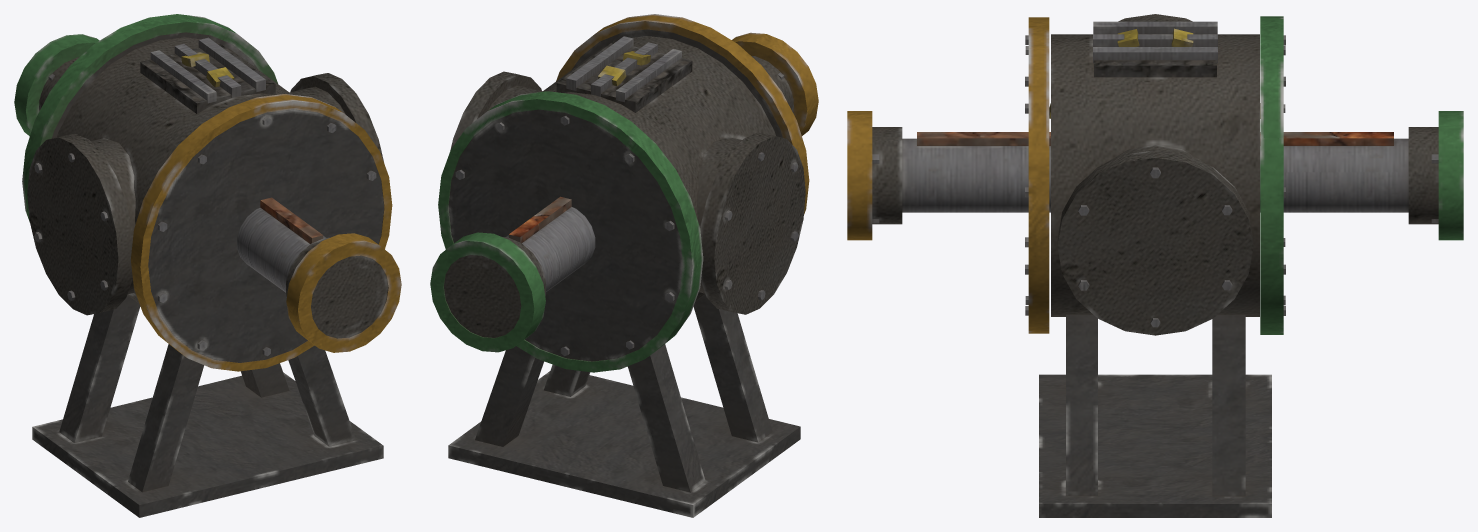
File: feSpinInverter_HD.fbx
3 views of the same model, side by side, from view 1: azimuth 30°, elevation 25°; view 2: azimuth 150°, elevation 25°; view 3: azimuth 270°, elevation 25° (orthographic). The views are drawn at different scales.
Visible parts, largest first — view 1: feSpinInverter_Base, FeSpinOut_Inverter, FeSpinIn_Inverter; view 2: feSpinInverter_Base, FeSpinIn_Inverter, FeSpinOut_Inverter; view 3: feSpinInverter_Base, FeSpinOut_Inverter, FeSpinIn_Inverter.
Boxes of the visible parts, x1,y1,x2,y2 form: feSpinInverter_Base: (22,14,392,517); FeSpinOut_Inverter: (237,197,401,352); FeSpinIn_Inverter: (14,34,99,136); feSpinInverter_Base: (438,14,809,517); FeSpinIn_Inverter: (430,196,595,352); FeSpinOut_Inverter: (732,32,818,135); feSpinInverter_Base: (1025,14,1285,517); FeSpinOut_Inverter: (847,111,1050,240); FeSpinIn_Inverter: (1260,111,1463,240).
Bounding box in the file's own units: 0.566 × 0.7709 × 1.01.
Materials: 1 (1 with a texture image).
